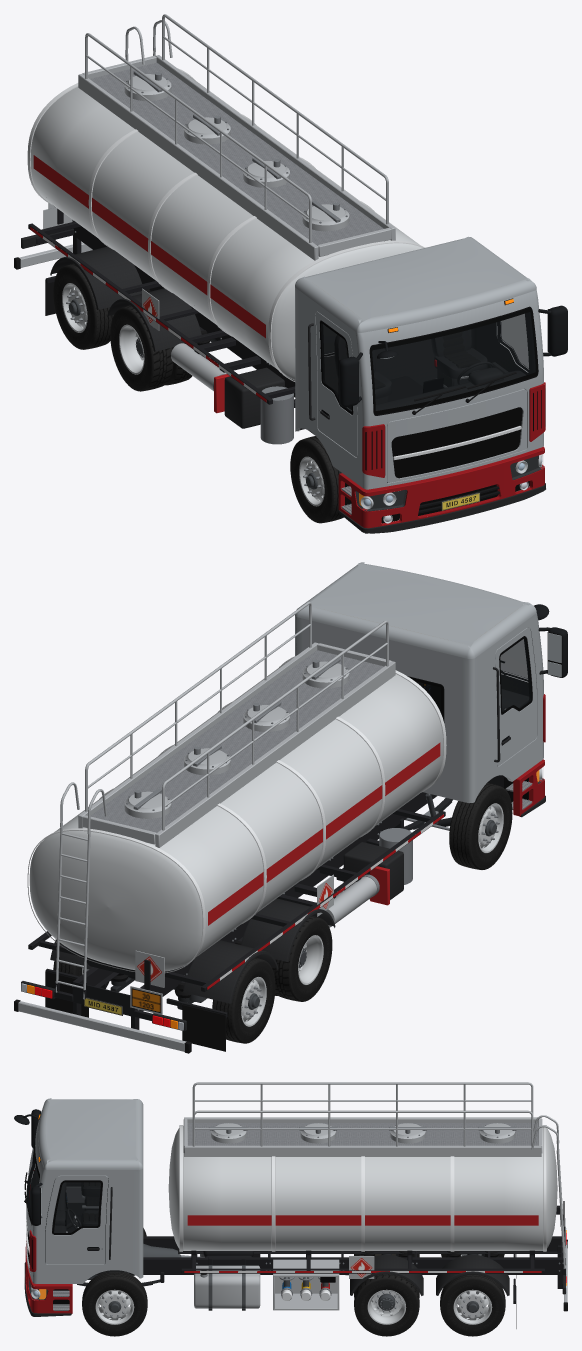
Rendered from tanker-truck.glb.
3 renders of one model, top to bottom at view 1: azimuth 30°, elevation 25°; view 2: azimuth 150°, elevation 25°; view 3: azimuth 270°, elevation 25°, orthographic. The views are drawn at different scales.
Parts seen in each view (by area): view 1: Body, Wheel_2_Right, Wheel_3_Right, Wheel_1_Right; view 2: Body, Wheel_1_Right, Wheel_2_Right, Wheel_3_Right; view 3: Body, Wheel_1_Left, Wheel_2_Left, Wheel_3_Left.
Boxes of the visible parts, x1,y1,x2,y2 form: Body: (14, 14, 567, 533); Wheel_2_Right: (110, 305, 197, 391); Wheel_3_Right: (53, 263, 113, 349); Wheel_1_Right: (290, 436, 343, 523); Body: (14, 562, 567, 1053); Wheel_1_Right: (449, 782, 512, 869); Wheel_2_Right: (271, 915, 332, 1001); Wheel_3_Right: (212, 957, 275, 1043); Body: (14, 1082, 567, 1328); Wheel_1_Left: (82, 1272, 147, 1336); Wheel_2_Left: (354, 1274, 419, 1336); Wheel_3_Left: (440, 1274, 505, 1336).
Size of the model in its own units: 3.12 by 3.62 by 8.76.
67 materials, 16 textured.
